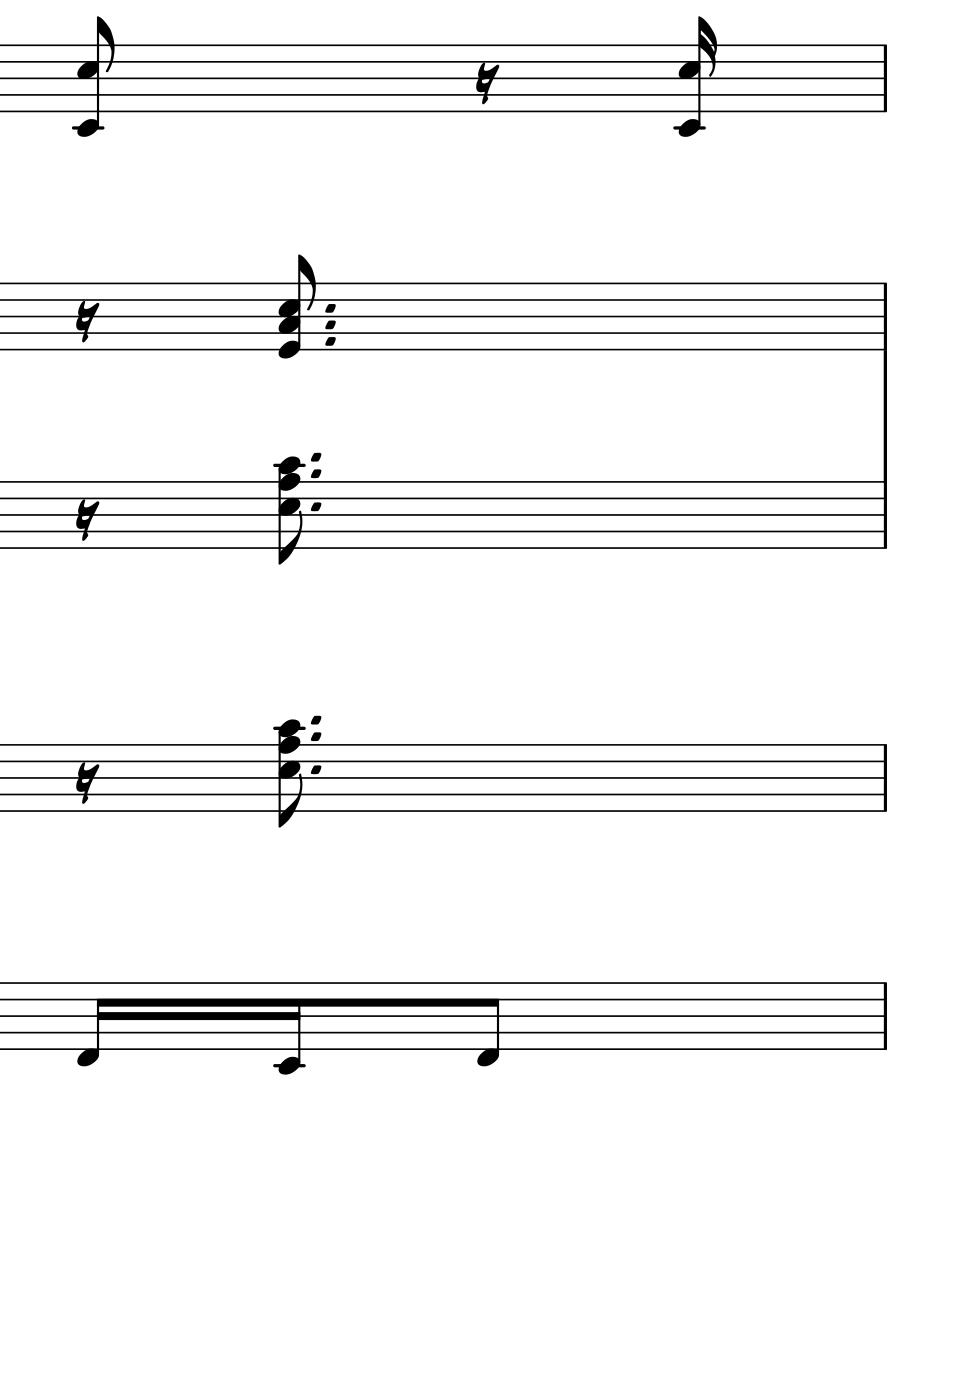16_-1: (74, 980, 108, 1069)
16_-2: (274, 980, 304, 1077)
16_-2_5: (673, 16, 720, 139)
8_-1: (475, 979, 502, 1067)
8_-2_5: (71, 16, 117, 138)
8_th: (274, 250, 321, 365)
Rests16: (474, 62, 498, 107), (74, 761, 99, 806)
Rests4: (73, 497, 99, 545), (74, 298, 99, 345)
Single_barline: (875, 43, 894, 112), (876, 744, 893, 811), (876, 983, 893, 1050), (876, 483, 892, 548), (877, 283, 892, 350)
dot: (322, 298, 338, 319), (307, 713, 323, 729), (308, 450, 323, 466), (307, 730, 325, 743), (322, 333, 339, 347), (323, 318, 339, 332), (307, 468, 323, 480), (308, 501, 323, 513), (308, 764, 323, 776)
